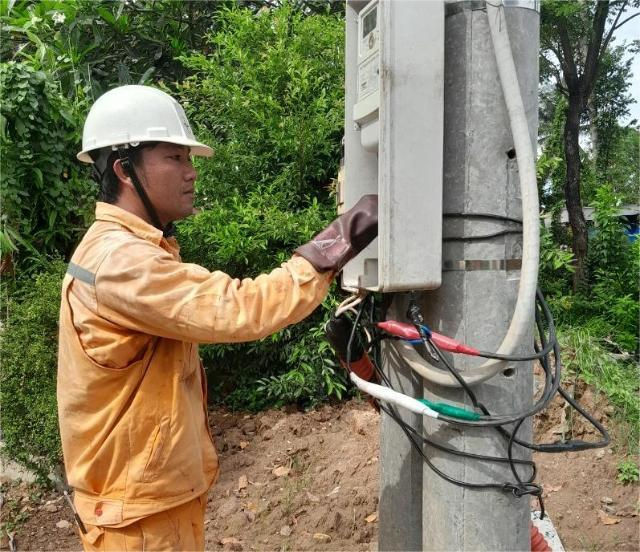gloves: (273, 174, 406, 272)
helmet: (75, 74, 210, 161)
